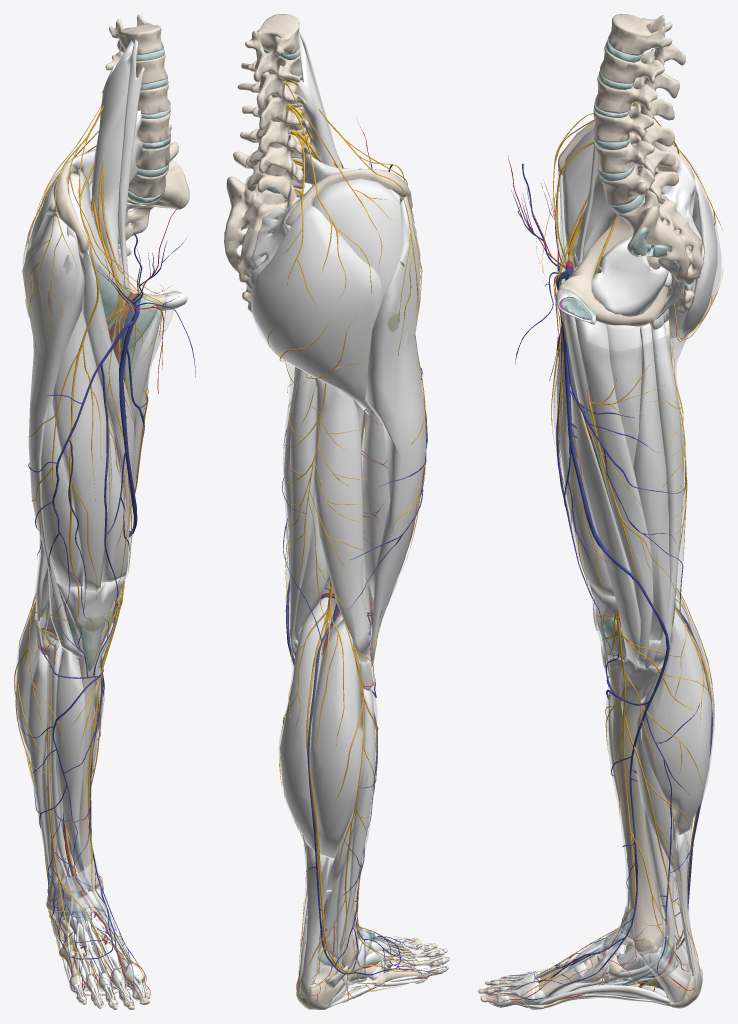
File: pelvis_new.glb
3 renders of one model, left to right at view 1: azimuth 30°, elevation 25°; view 2: azimuth 150°, elevation 25°; view 3: azimuth 270°, elevation 25°, orthographic. The views are drawn at different scales.
Visible parts, largest first — view 1: Fascia lata.r, Crural fascia.r, Iliotibial tract.r, Rectus femoris.r, Psoas major.r, Tibialis anterior muscle.r, Vastus lateralis muscle.r, Sartorius muscle.r, Quadriceps common tendon and patellar ligament.r, Fibularis longus muscle.r, Femoral triangle.r, Vastus medialis muscle.r (+39 smaller); view 2: Fascia lata.r, Crural fascia.r, Gluteus maximus muscle.r, Iliotibial tract.r, Long head of biceps femoris.r, Lateral head of gastrocnemius.r, Gluteus medius muscle.r, Medial head of gastrocnemius.r, Gluteal aponeurosis.r, Semitendinosus muscle.r, Sacrum, Vastus lateralis muscle.r (+29 smaller); view 3: Fascia lata.r, Crural fascia.r, Medial head of gastrocnemius.r, Gracilis muscle.r, Semimembranosus muscle.r, Tibia.r, Sartorius muscle.r, Semitendinosus muscle.r, Hip bone.r, Obturator internus.r, Sacrum, Adductor magnus.r (+38 smaller).
Boxes of the visible parts, x1=… form: Fascia lata.r: x1=22, y1=230, x2=174, y2=642; Crural fascia.r: x1=14, y1=597, x2=111, y2=927; Iliotibial tract.r: x1=22, y1=198, x2=84, y2=658; Rectus femoris.r: x1=52, y1=299, x2=112, y2=591; Psoas major.r: x1=92, y1=40, x2=142, y2=327; Tibialis anterior muscle.r: x1=54, y1=649, x2=115, y2=929; Vastus lateralis muscle.r: x1=41, y1=394, x2=82, y2=587; Sartorius muscle.r: x1=79, y1=249, x2=134, y2=623; Quadriceps common tendon and patellar ligament.r: x1=57, y1=576, x2=125, y2=671; Fibularis longus muscle.r: x1=27, y1=650, x2=64, y2=940; Femoral triangle.r: x1=92, y1=262, x2=159, y2=394; Vastus medialis muscle.r: x1=101, y1=412, x2=128, y2=582; Fascia lata.r: x1=245, y1=198, x2=423, y2=646; Crural fascia.r: x1=279, y1=619, x2=377, y2=1004; Gluteus maximus muscle.r: x1=250, y1=204, x2=383, y2=414; Iliotibial tract.r: x1=365, y1=189, x2=426, y2=666; Long head of biceps femoris.r: x1=314, y1=378, x2=370, y2=663; Lateral head of gastrocnemius.r: x1=310, y1=619, x2=363, y2=857; Gluteus medius muscle.r: x1=312, y1=179, x2=402, y2=298; Medial head of gastrocnemius.r: x1=279, y1=597, x2=328, y2=850; Gluteal aponeurosis.r: x1=313, y1=177, x2=401, y2=289; Semitendinosus muscle.r: x1=290, y1=369, x2=316, y2=656; Sacrum: x1=224, y1=176, x2=300, y2=289; Vastus lateralis muscle.r: x1=362, y1=409, x2=390, y2=596; Fascia lata.r: x1=552, y1=151, x2=721, y2=655; Crural fascia.r: x1=600, y1=590, x2=714, y2=990; Medial head of gastrocnemius.r: x1=640, y1=610, x2=711, y2=835; Gracilis muscle.r: x1=574, y1=317, x2=653, y2=666; Semimembranosus muscle.r: x1=633, y1=323, x2=677, y2=640; Tibia.r: x1=609, y1=658, x2=667, y2=956; Sartorius muscle.r: x1=558, y1=169, x2=639, y2=662; Semitendinosus muscle.r: x1=650, y1=323, x2=683, y2=667; Hip bone.r: x1=558, y1=120, x2=694, y2=326; Obturator internus.r: x1=591, y1=236, x2=668, y2=316; Sacrum: x1=616, y1=168, x2=703, y2=284; Adductor magnus.r: x1=605, y1=324, x2=641, y2=466.
Bounding box in the file's own units: 0.2236 × 1.16 × 0.2523.
